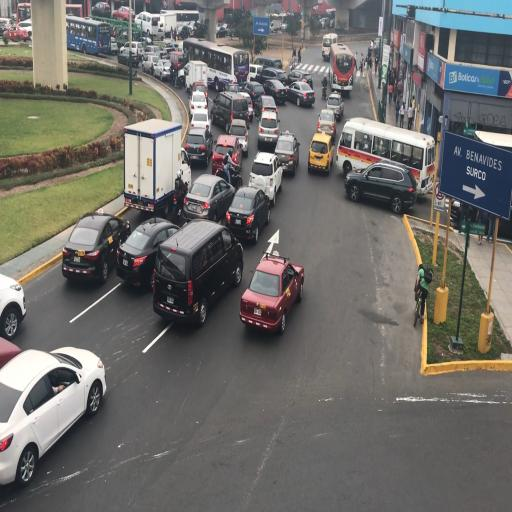auto: (2, 344, 107, 490), (153, 218, 242, 324), (239, 250, 304, 335), (61, 211, 129, 283), (116, 216, 181, 291), (348, 162, 418, 215), (224, 184, 270, 242), (184, 173, 235, 224), (248, 152, 282, 206), (0, 268, 25, 340), (211, 88, 250, 132), (212, 133, 244, 174), (184, 127, 214, 167), (273, 130, 299, 176), (307, 129, 333, 174), (257, 108, 281, 150), (226, 117, 249, 154), (287, 80, 316, 108), (262, 77, 289, 105), (316, 106, 338, 140), (243, 80, 266, 112), (256, 93, 278, 126), (188, 109, 211, 139), (324, 92, 344, 123), (258, 66, 287, 87), (287, 67, 315, 88), (142, 52, 166, 76), (189, 92, 209, 120), (3, 22, 31, 42), (168, 50, 185, 76), (119, 41, 142, 58), (113, 5, 134, 22), (142, 44, 163, 60), (91, 2, 111, 18), (327, 90, 342, 105), (216, 23, 228, 37)
bus: (123, 118, 184, 223), (185, 60, 208, 95)
camion: (413, 263, 432, 326), (217, 160, 243, 194)
moto: (183, 37, 243, 91), (66, 13, 111, 55), (328, 42, 354, 96), (159, 8, 200, 39), (134, 10, 163, 38), (322, 32, 338, 61), (16, 2, 32, 23)
